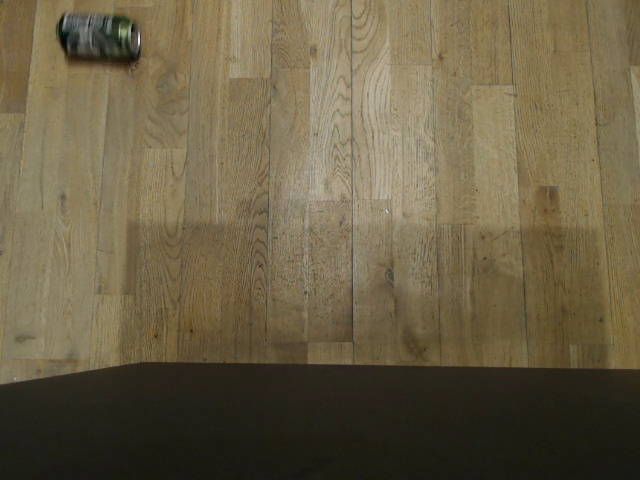beer: (47, 11, 144, 65)
